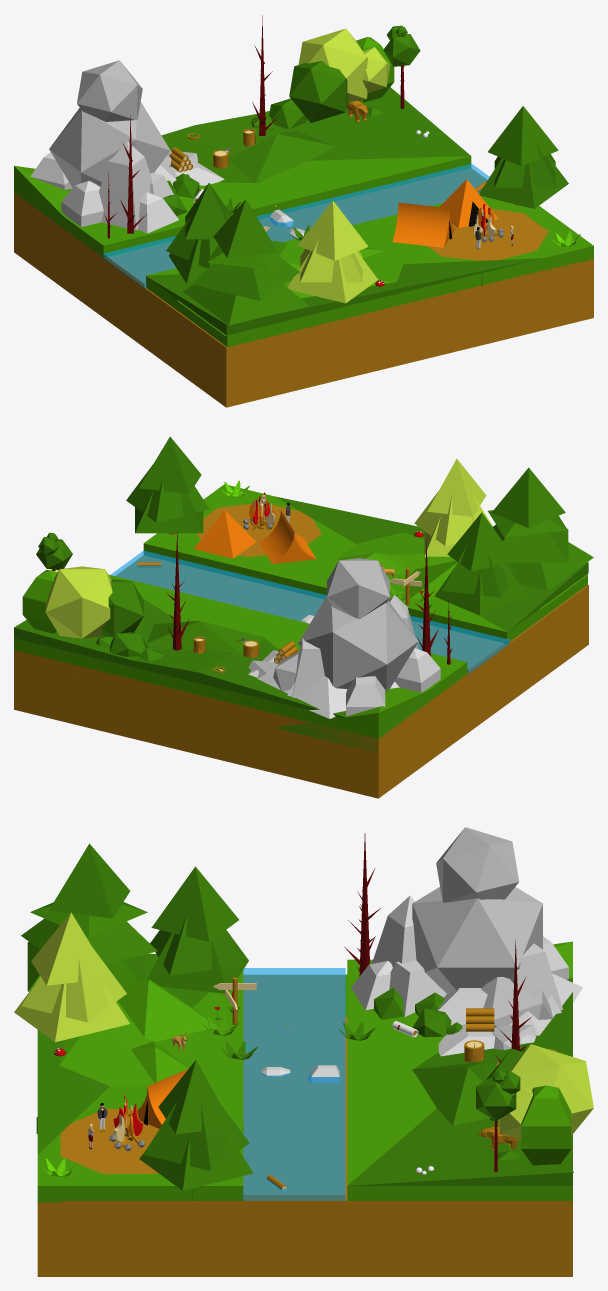
File: jungle.glb
The picture shows the model from 3 angles, top to bottom: view 1: azimuth 30°, elevation 25°; view 2: azimuth 150°, elevation 25°; view 3: azimuth 270°, elevation 25°; orthographic projection. The views are drawn at different scales.
Parts seen in each view (by area): view 1: box (×8), pyramid4 (×16), icosahedron (×7), cornerPyramid3 (×4), truncatedPyramid4 (×5), circleWedge, cornerPyramid4; view 2: box (×9), pyramid4 (×20), icosahedron (×7), cornerPyramid3 (×4), truncatedPyramid4 (×5), cornerPyramid4, circleWedge; view 3: box (×11), pyramid4 (×18), icosahedron (×9), cornerPyramid3 (×3), truncatedPyramid4 (×8), circleWedge.
Part boxes in pixels (x1,y1,x2,y2): box (×8): (14,156,593,407); pyramid4 (×16): (166,106,568,336); icosahedron (×7): (49,28,420,187); cornerPyramid3 (×4): (145,87,543,335); truncatedPyramid4 (×5): (30,152,224,233); circleWedge: (392,202,449,247); cornerPyramid4: (14,165,171,257); box (×9): (14,485,588,798); pyramid4 (×20): (76,436,593,674); icosahedron (×7): (36,539,418,691); cornerPyramid3 (×4): (14,496,588,725); truncatedPyramid4 (×5): (23,577,440,718); cornerPyramid4: (274,673,467,752); circleWedge: (259,511,294,563); box (×11): (37,959,572,1276); pyramid4 (×18): (14,833,573,1190); icosahedron (×9): (374,827,593,1139); cornerPyramid3 (×3): (37,953,572,1185); truncatedPyramid4 (×8): (351,916,582,1165); circleWedge: (147,1069,188,1128).
Size of the model in its own units: 35.43 by 16.6 by 34.66.
